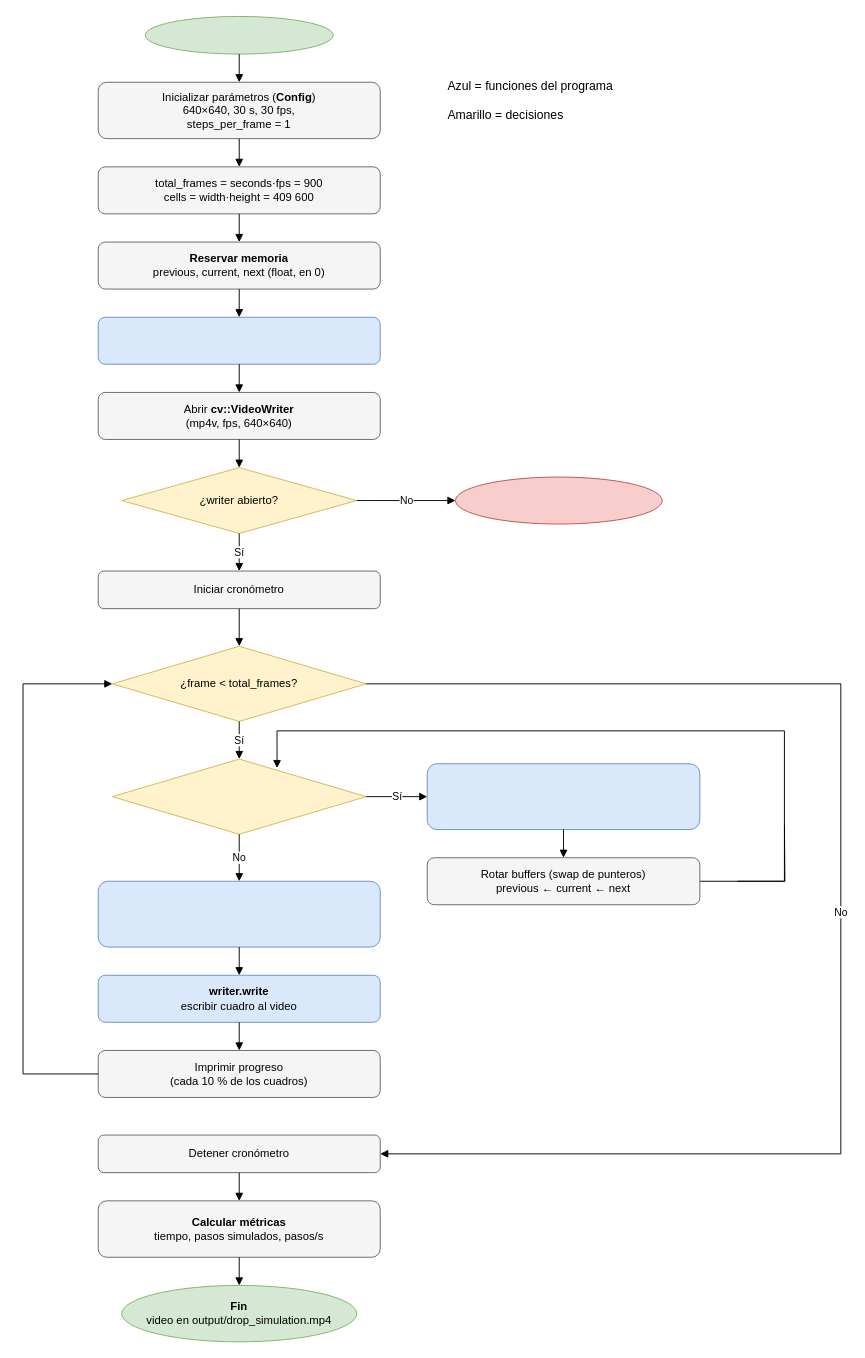
This 865x1358 diagram has some shape labels left out. Here are the shapes that lost their labels. From the top down, the centre of each, then its label:
At point (238, 35): "Inicio: main".
At point (238, 340): "add_drop perturbación inicial gaussiana".
At point (558, 500): "Error: lanzar excepción y salir".
At point (238, 796): "¿step < steps_per_frame?".
At point (563, 796): "simulate_step stencil de 5 puntos + border_absorption por celda".
At point (238, 913): "render_frame normales, luz difusa y especular, altura → gris de 8 bits".
